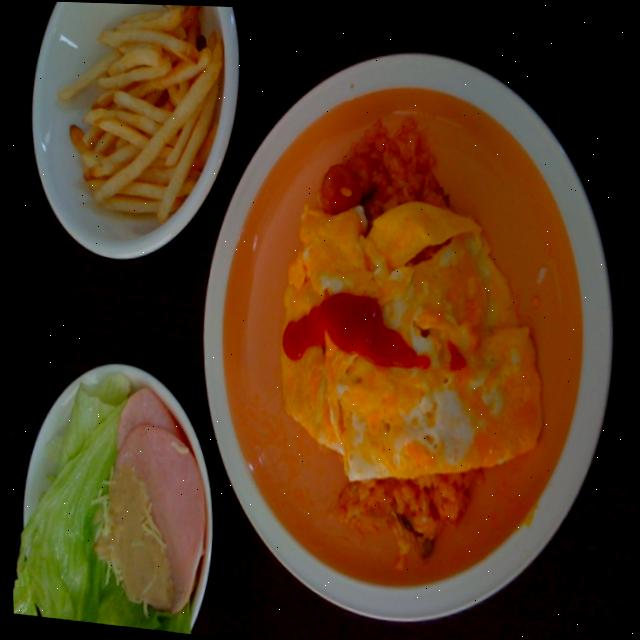炸货点心: (23, 1, 250, 269)
蔬菜料理: (6, 347, 224, 635)
